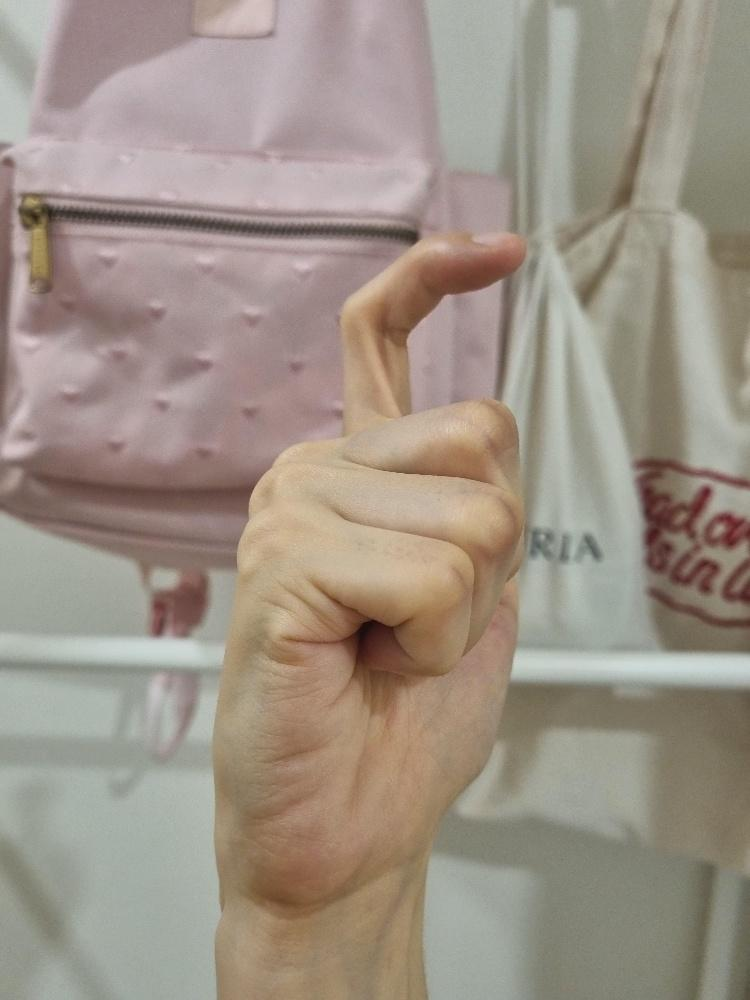x: (208, 227, 530, 904)
